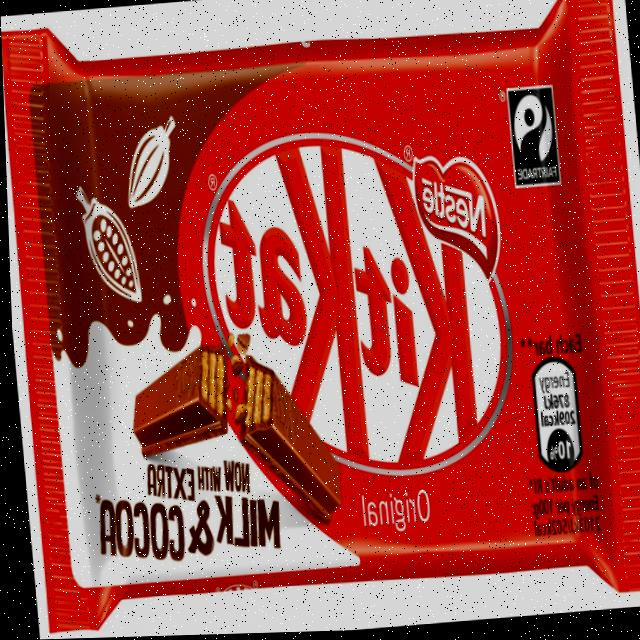kitkat: (0, 0, 640, 636)
